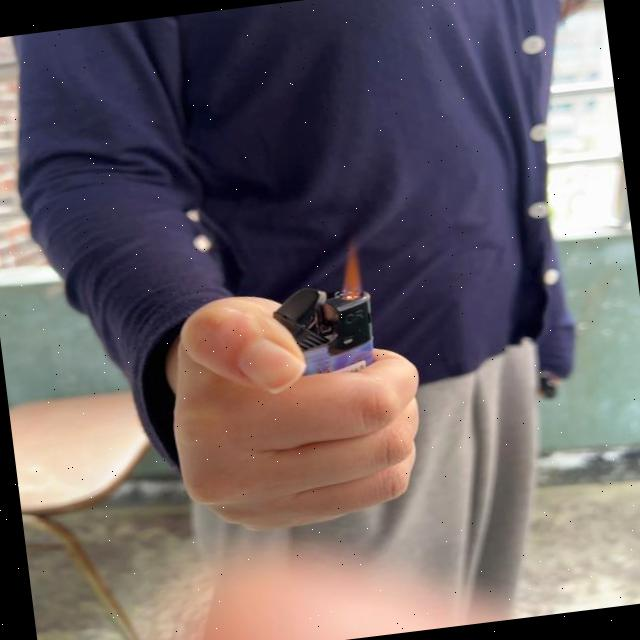fire: (330, 240, 366, 300)
